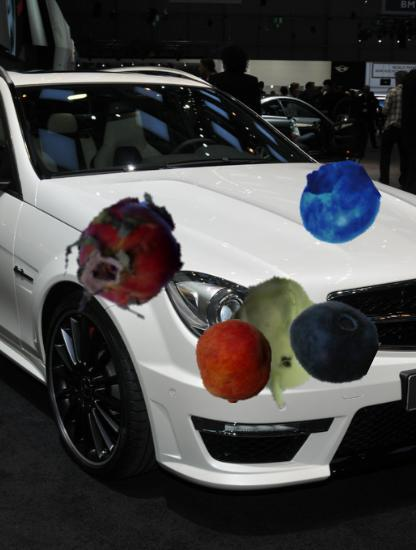Blueberry: (287, 297, 378, 388)
Huckleberry: (296, 161, 379, 244)
Kohlrabi: (211, 275, 345, 409)
Peach: (192, 319, 277, 404)
Pitahaya: (55, 188, 195, 328)
